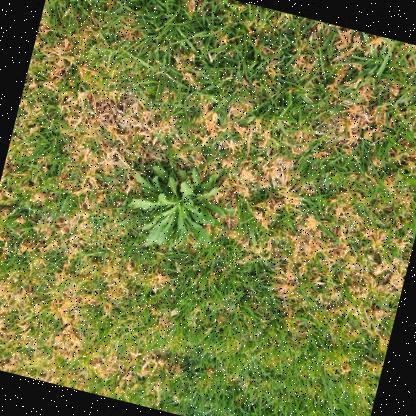Weeds: (117, 153, 243, 267)
